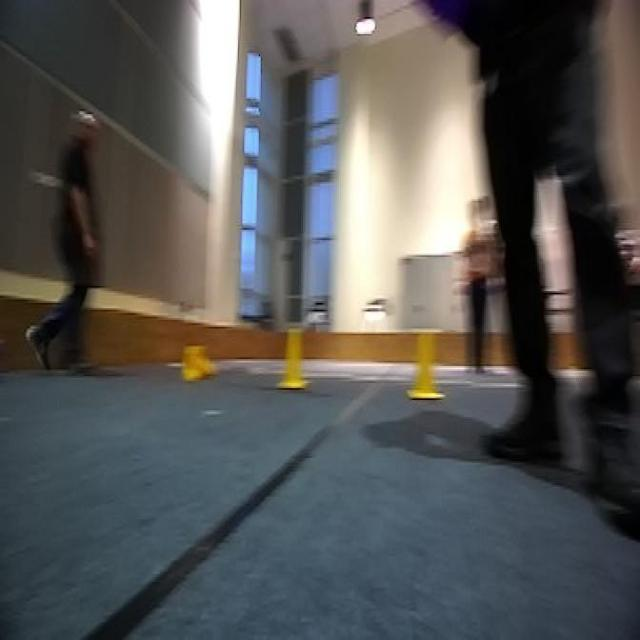frc_cone: (402, 327, 449, 402), (276, 327, 311, 388), (183, 344, 215, 383)
frc_cube: (404, 2, 481, 39)
